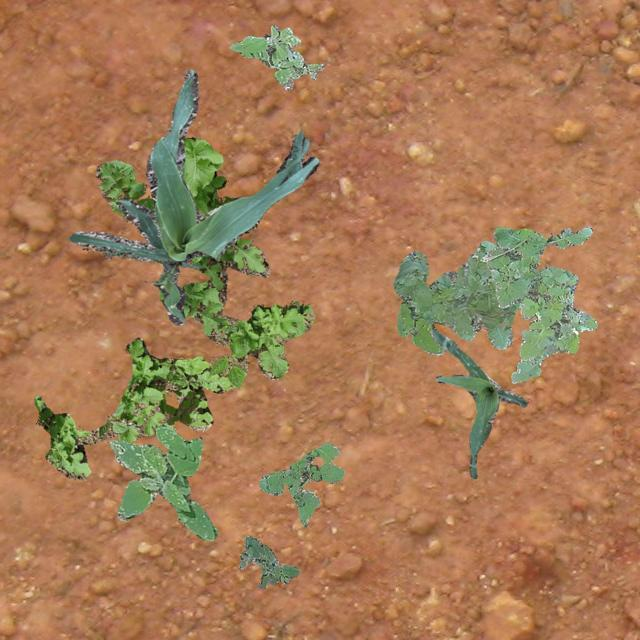crop: (68, 69, 318, 324), (430, 328, 528, 478)
weed: (33, 301, 314, 478), (94, 136, 270, 344), (486, 225, 596, 382), (392, 240, 520, 354), (108, 424, 216, 540), (258, 442, 344, 526), (228, 24, 322, 89), (238, 534, 300, 588), (162, 389, 198, 424)
